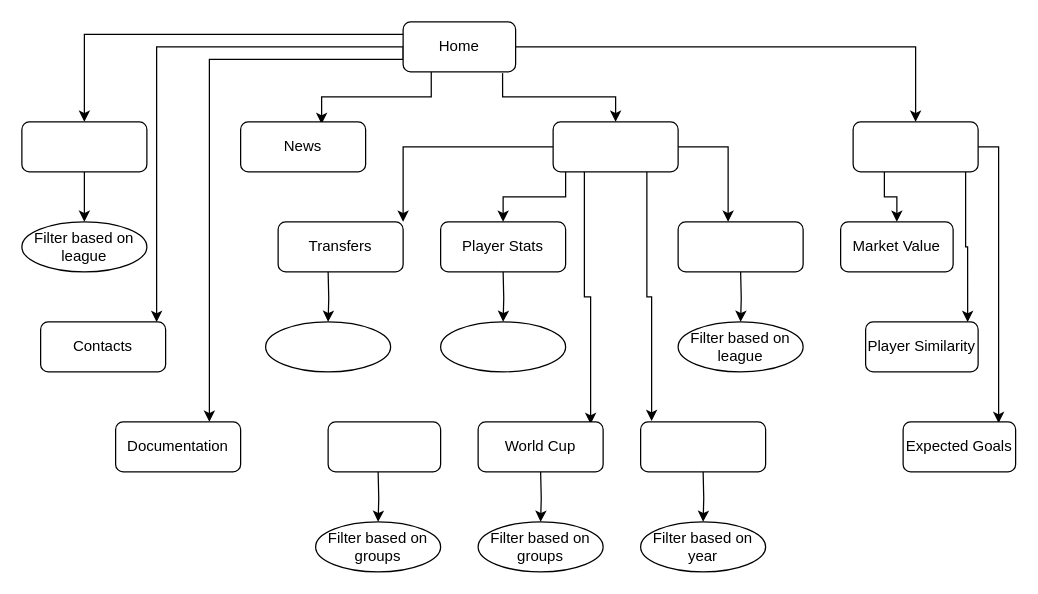
Image size: 1038x594. Some labels were removed from this diagram. Here are the shapes that lost their labels. From the top down, the box of each, then its label:
(21, 121, 147, 172): Live Scores
(552, 121, 678, 172): Statistics
(852, 121, 978, 172): Coaches Center
(677, 221, 803, 272): League Stats
(264, 321, 391, 372): Filter based on teams
(439, 321, 566, 372): Search for players
(327, 421, 441, 472): Euro
(639, 421, 766, 472): Awards
